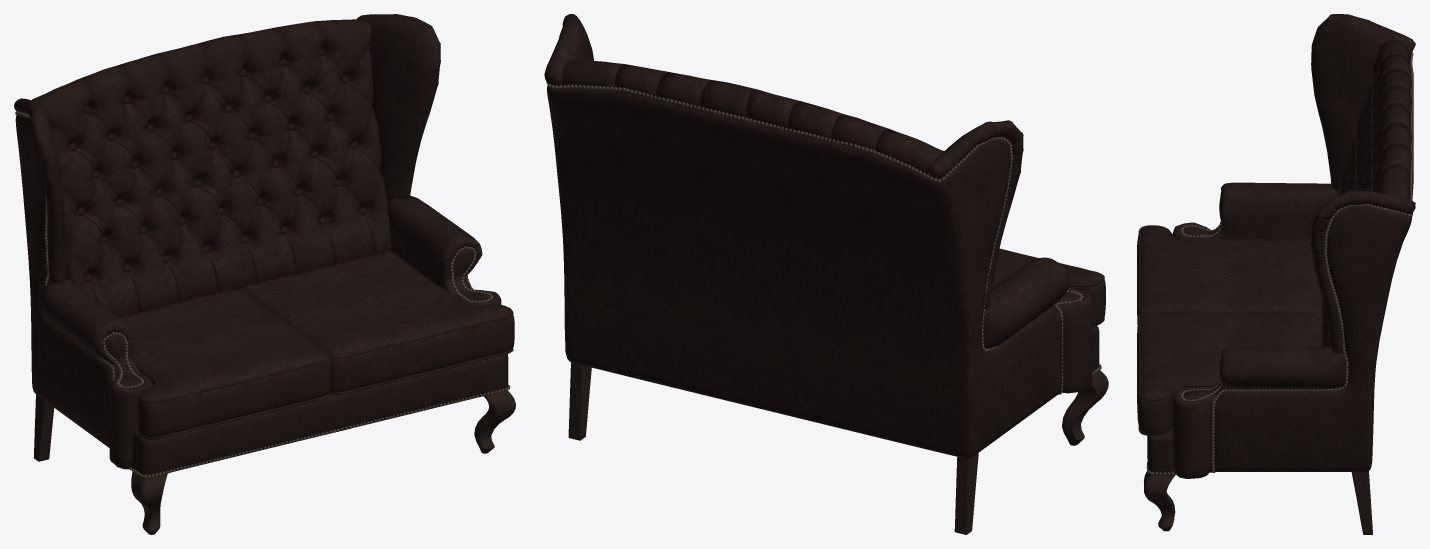
Rendered from Dominik_Divan.glb.
3 renders of one model, left to right at view 1: azimuth 30°, elevation 25°; view 2: azimuth 150°, elevation 25°; view 3: azimuth 270°, elevation 25°, orthographic. The views are drawn at different scales.
Parts seen in each view (by area): view 1: Dominic_divan_kapiton; view 2: Dominic_divan_kapiton; view 3: Dominic_divan_kapiton.
Boxes of the visible parts, left/top/right/bottom form: Dominic_divan_kapiton: left=14, top=14, right=515, bottom=534; Dominic_divan_kapiton: left=544, top=14, right=1108, bottom=534; Dominic_divan_kapiton: left=1137, top=14, right=1415, bottom=534.
Size of the model in its own units: 1.34 by 1.15 by 0.8315.
Materials: 3 (2 with a texture image).
